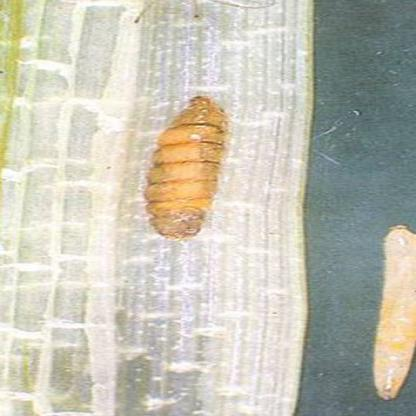whorl-maggot: (124, 90, 249, 244), (356, 216, 416, 406)
